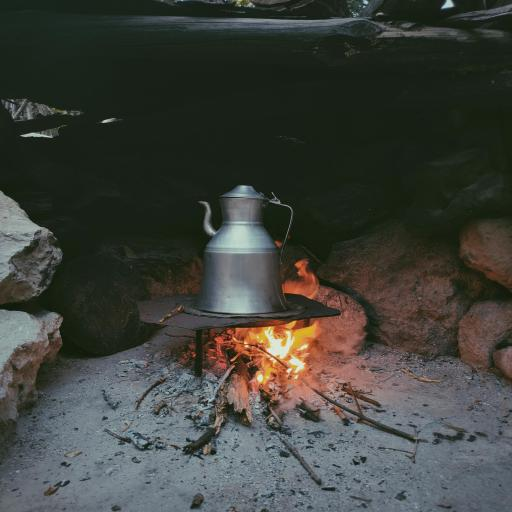campfire: (138, 304, 378, 410)
